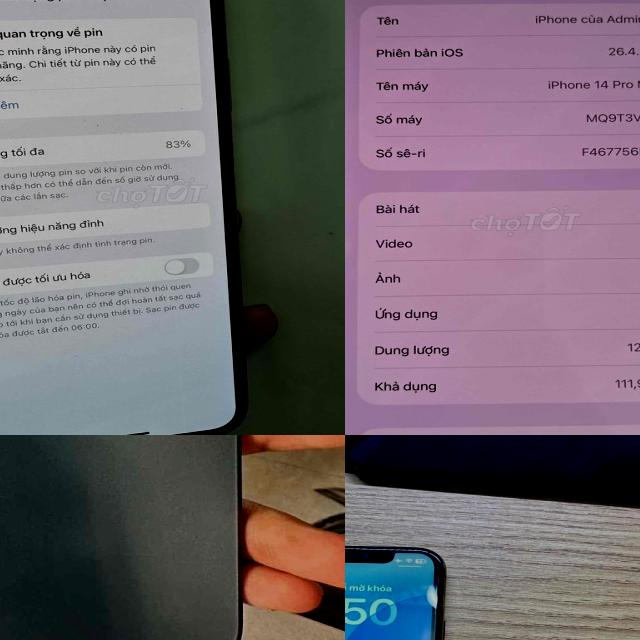gen_12_13: (0, 435, 247, 640)
gen_14: (345, 0, 640, 435)
gen_x_xs: (0, 0, 247, 435), (345, 532, 459, 640)
